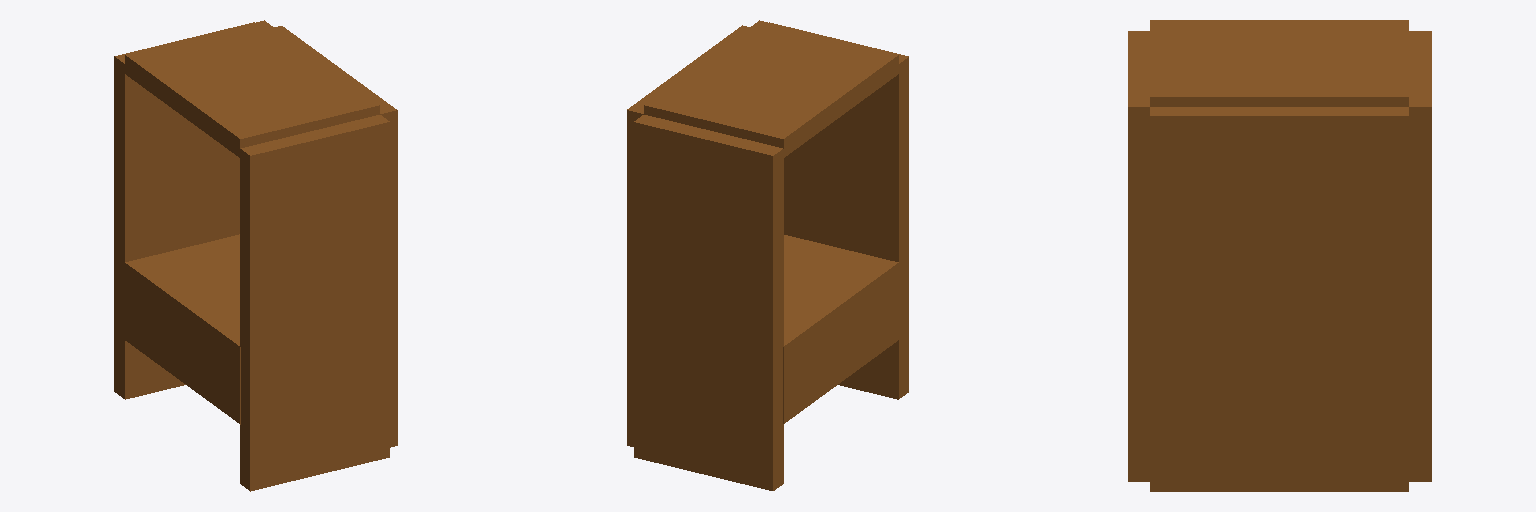
The robot description file, URDF, robot "dummy":
<?xml version="1.0"?>
<robot name="dummy">
  <link name="bottom_wall">
    <visual>
      <origin xyz="0.0 0.0 0.08040999933226751" rpy="0 0 0"/>
      <geometry>
        <mesh filename="bottom_wall.obj" scale="1 1 1"/>
      </geometry>
      <material name="brown">
        <color rgba="0.6 0.4 0.2 1.0"/>
      </material>
    </visual>
    <collision>
      <origin xyz="0.0 0.0 0.08040999933226751" rpy="0 0 0"/>
      <geometry>
        <mesh filename="bottom_wall.obj" scale="1 1 1"/>
      </geometry>
    </collision>
  </link>

  <link name="left_wall">
    <visual>
      <origin xyz="0.0 -0.15249272832276084 0.0" rpy="0 0 0"/>
      <geometry>
        <mesh filename="vertical_wall.obj" scale="1 1 1"/>
      </geometry>
      <material name="brown">
        <color rgba="0.6 0.4 0.2 1.0"/>
      </material>
    </visual>
    <collision>
      <origin xyz="0.0 -0.15249272832276084 0.0" rpy="0 0 0"/>
      <geometry>
        <mesh filename="vertical_wall.obj" scale="1 1 1"/>
      </geometry>
    </collision>
  </link>

  <link name="right_wall">
    <visual>
      <origin xyz="0.0 0.15249272832276084 0.0" rpy="0 0 0"/>
      <geometry>
        <mesh filename="vertical_wall.obj" scale="1 1 1"/>
      </geometry>
      <material name="brown">
        <color rgba="0.6 0.4 0.2 1.0"/>
      </material>
    </visual>
    <collision>
      <origin xyz="0.0 0.15249272832276084 0.0" rpy="0 0 0"/>
      <geometry>
        <mesh filename="vertical_wall.obj" scale="1 1 1"/>
      </geometry>
    </collision>
  </link>

  <link name="back_wall">
    <visual>
      <origin xyz="0.10993192251879456 0.0 0.0" rpy="0 0 0"/>
      <geometry>
        <mesh filename="back_wall.obj" scale="1 1 1"/>
      </geometry>
      <material name="brown">
        <color rgba="0.6 0.4 0.2 1.0"/>
      </material>
    </visual>
    <collision>
      <origin xyz="0.10993192251879456 0.0 0.0" rpy="0 0 0"/>
      <geometry>
        <mesh filename="back_wall.obj" scale="1 1 1"/>
      </geometry>
    </collision>
  </link>

  <link name="top_wall">
    <visual>
      <origin xyz="0.0 0.0 0.43715944475441487" rpy="0 0 0"/>
      <geometry>
        <mesh filename="top_wall.obj" scale="1 1 1"/>
      </geometry>
      <material name="brown">
        <color rgba="0.6 0.4 0.2 1.0"/>
      </material>
    </visual>
    <collision>
      <origin xyz="0.0 0.0 0.43715944475441487" rpy="0 0 0"/>
      <geometry>
        <mesh filename="top_wall.obj" scale="1 1 1"/>
      </geometry>
    </collision>
  </link>

  <joint name="left_wall_joint" type="fixed">
    <origin xyz="0 0 0" rpy="0 0 0"/>
    <parent link="bottom_wall"/>
    <child link="left_wall"/>
  </joint>

  <joint name="right_wall_joint" type="fixed">
    <origin xyz="0 0 0" rpy="0 0 0"/>
    <parent link="bottom_wall"/>
    <child link="right_wall"/>
  </joint>

  <joint name="back_wall_joint" type="fixed">
    <origin xyz="0 0 0" rpy="0 0 0"/>
    <parent link="bottom_wall"/>
    <child link="back_wall"/>
  </joint>

  <joint name="top_wall_joint" type="fixed">
    <origin xyz="0 0 0" rpy="0 0 0"/>
    <parent link="bottom_wall"/>
    <child link="top_wall"/>
  </joint>

</robot>

--- What the picture shows (computed from the rendered views, not written in the file) ---
Views: 3 orthographic renders of the robot side by side, from view 1: azimuth 30°, elevation 25°; view 2: azimuth 150°, elevation 25°; view 3: azimuth 270°, elevation 25°.
Model dummy with 5 links and 4 joints (4 fixed), rooted at bottom_wall, posed every joint at zero.
Visible links, largest first — view 1: left_wall, right_wall, top_wall, bottom_wall, back_wall; view 2: right_wall, left_wall, top_wall, bottom_wall, back_wall; view 3: back_wall, top_wall, right_wall, left_wall.
Link boxes in pixels (x1=…): left_wall: x1=240, y1=115, x2=389, y2=491; right_wall: x1=114, y1=22, x2=254, y2=399; top_wall: x1=125, y1=20, x2=379, y2=157; bottom_wall: x1=124, y1=234, x2=240, y2=424; back_wall: x1=274, y1=26, x2=397, y2=447; right_wall: x1=634, y1=115, x2=783, y2=490; left_wall: x1=769, y1=22, x2=908, y2=399; top_wall: x1=644, y1=20, x2=898, y2=157; bottom_wall: x1=783, y1=235, x2=899, y2=423; back_wall: x1=627, y1=25, x2=749, y2=446; back_wall: x1=1150, y1=107, x2=1408, y2=491; top_wall: x1=1150, y1=20, x2=1408, y2=106; right_wall: x1=1409, y1=31, x2=1431, y2=481; left_wall: x1=1128, y1=31, x2=1149, y2=481.
Size in the robot's own frame: 0.2211 by 0.3312 by 0.4632 metres.
Meshes: 4 distinct files referenced, 5 mesh visuals loaded (4 OBJ).
